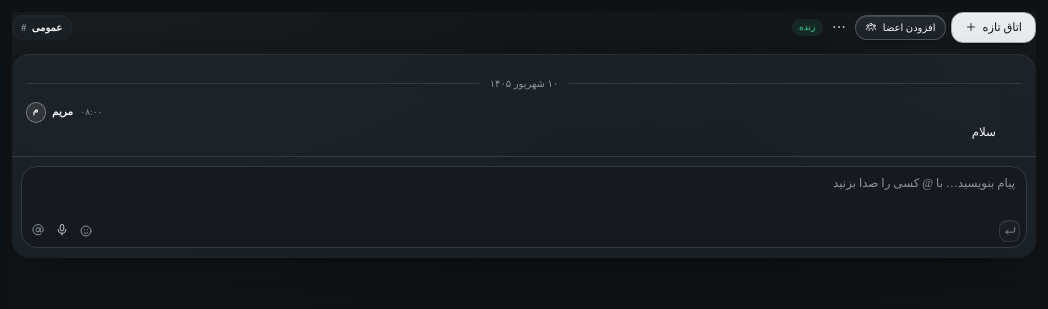
it: answering an agent › does NOT write a handle when the message is a colleague's
Right-click the text "سلام" at {"x": 984, "y": 132}, box [972,124,996,138]
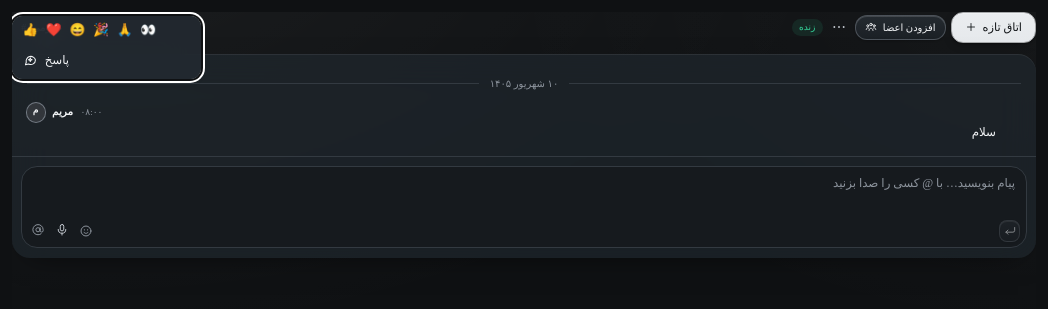
Click the menu item "پاسخ" at {"x": 46, "y": 60}, box [23,52,69,68]
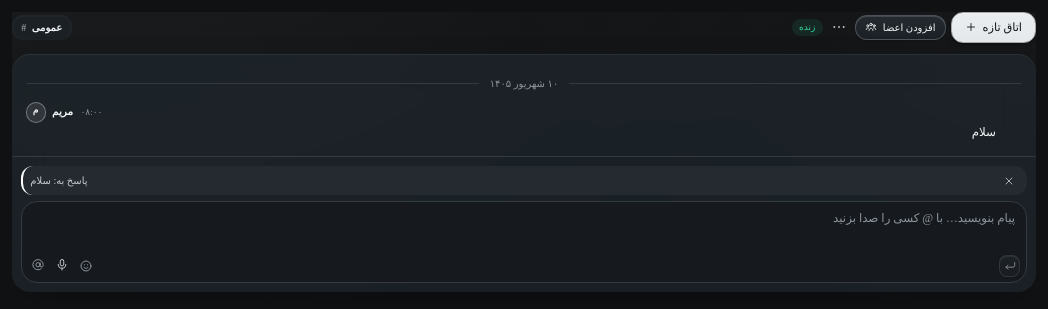
expect the text box with placeholder "پیام بنویسید… با @ کسی را صدا بزنید" is empty: met, box [22,202,1026,248]
expect the text "پاسخ به: سلام" is shown: met, box [30,175,87,186]
